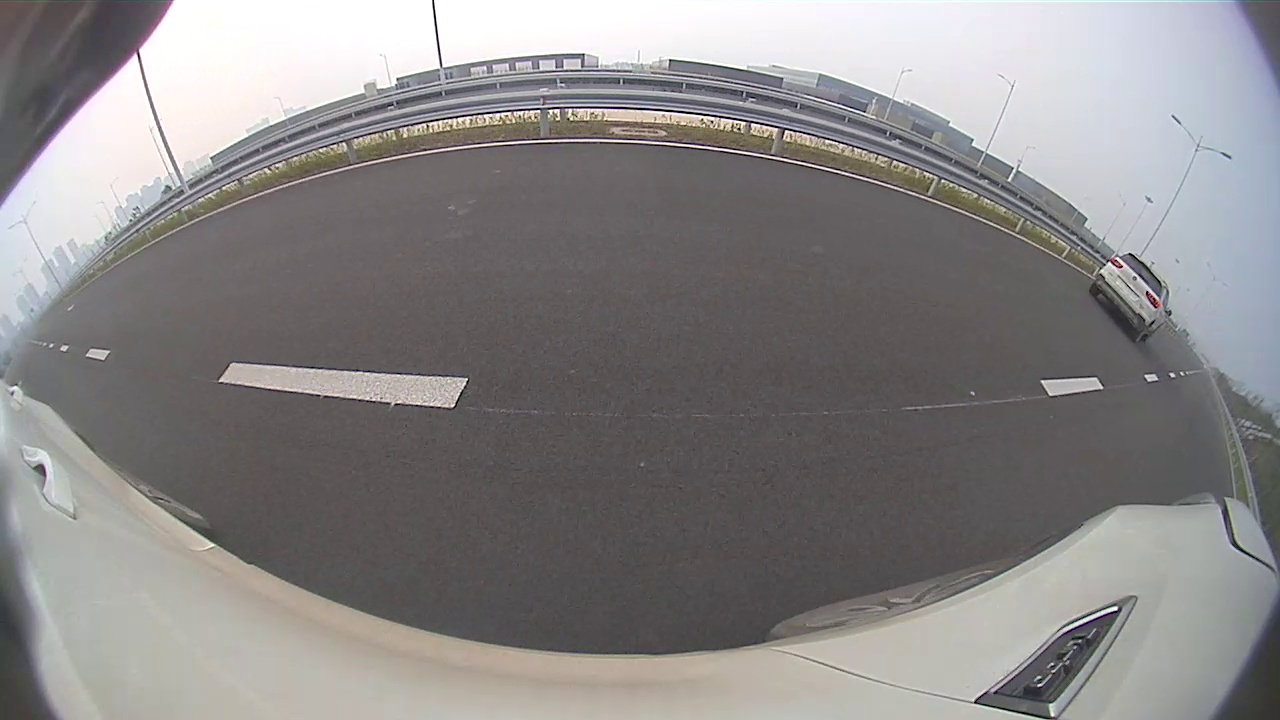car: (743, 143, 857, 214)
front: (743, 175, 757, 200)
rear: (775, 178, 794, 210)
